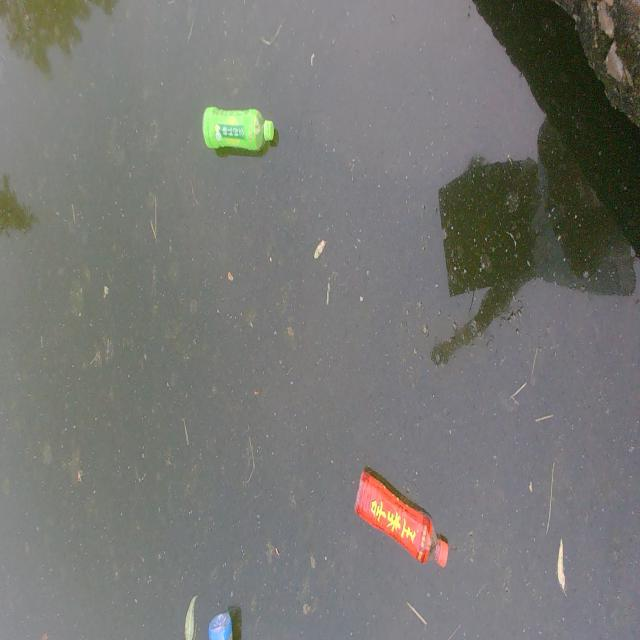bottle: (337, 433, 466, 590), (184, 102, 291, 162), (200, 605, 248, 640)
